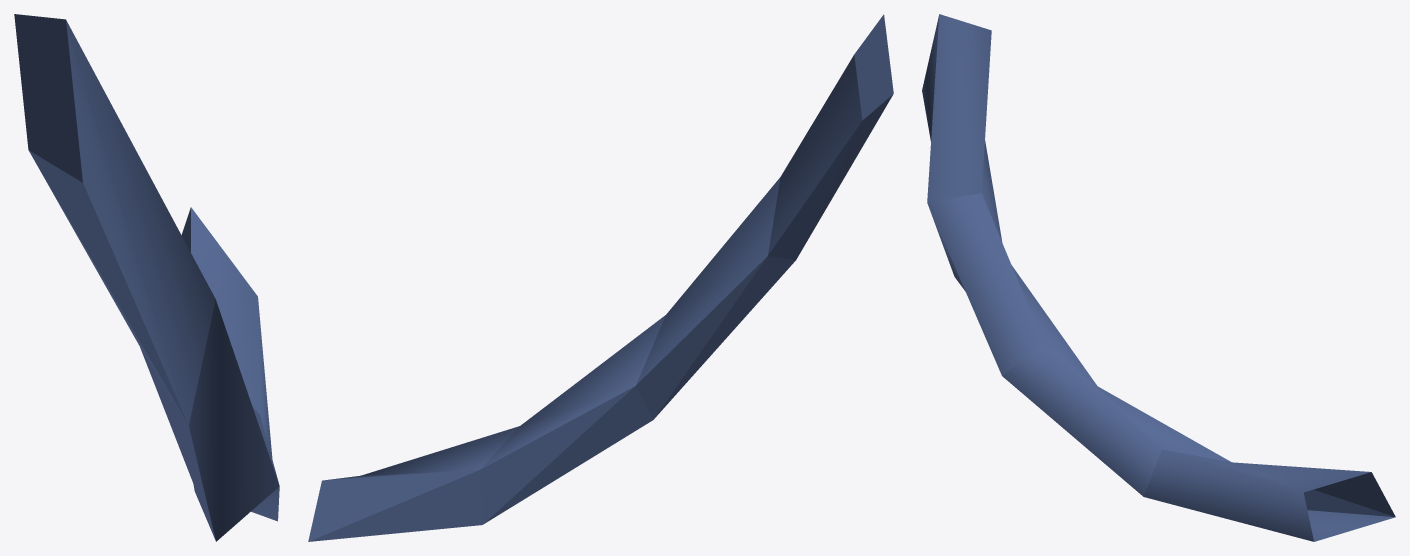
The model's file is original-1016.obj.
3 views of the same model, side by side, from view 1: azimuth 30°, elevation 25°; view 2: azimuth 150°, elevation 25°; view 3: azimuth 270°, elevation 25° (orthographic). The views are drawn at different scales.
Visible parts, largest first — view 1: mesh121/mesh121-geometry#mesh121-geometry; view 2: mesh121/mesh121-geometry#mesh121-geometry; view 3: mesh121/mesh121-geometry#mesh121-geometry.
Part boxes in pixels (<box>): mesh121/mesh121-geometry#mesh121-geometry: <box>14,14,279,541</box>; mesh121/mesh121-geometry#mesh121-geometry: <box>308,14,893,541</box>; mesh121/mesh121-geometry#mesh121-geometry: <box>922,14,1395,541</box>.
Bounding box in the file's own units: 0.00461 × 0.00624 × 0.00677.
